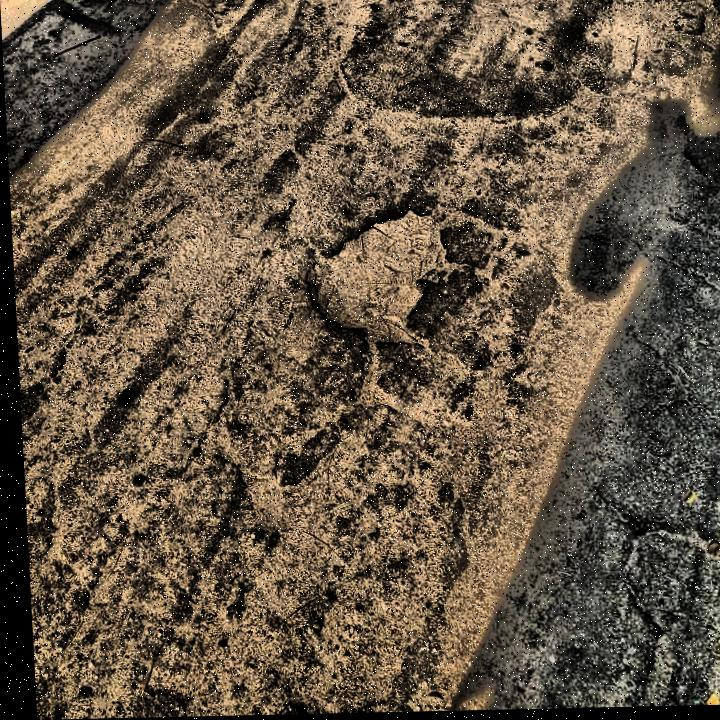pothole: (293, 205, 457, 349)
